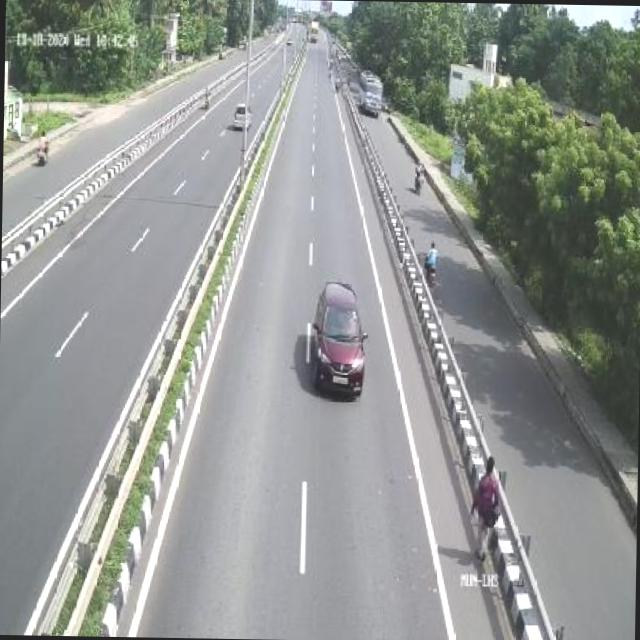car: (311, 274, 368, 399)
